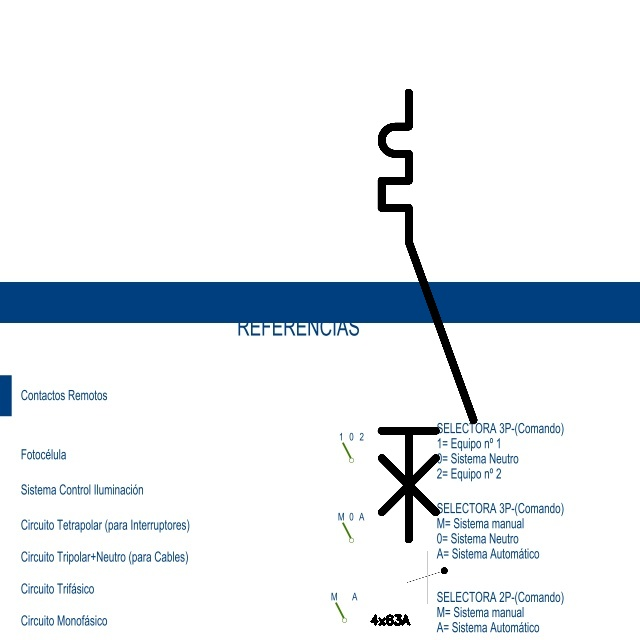interruptor_termomagnetico: (370, 81, 485, 551)
